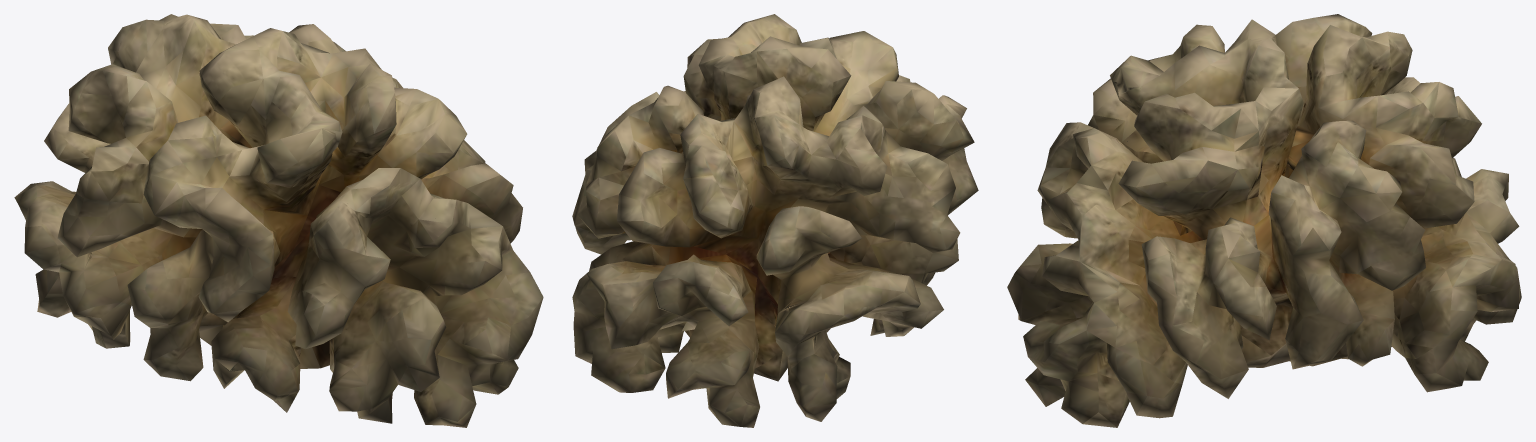
The model's file is scan_coral_pocillopora.glb.
The picture shows the model from 3 angles, left to right: view 1: azimuth 30°, elevation 25°; view 2: azimuth 150°, elevation 25°; view 3: azimuth 270°, elevation 25°; orthographic projection. The views are drawn at different scales.
Visible parts, largest first — view 1: scan_coral_pocillopora; view 2: scan_coral_pocillopora; view 3: scan_coral_pocillopora.
Boxes of the visible parts, box(x1,y1,x2,y2) form: scan_coral_pocillopora: box(14, 14, 543, 427); scan_coral_pocillopora: box(572, 14, 978, 427); scan_coral_pocillopora: box(1007, 14, 1521, 427).
Size of the model in its own units: 0.5415 by 0.4151 by 0.5935.
Materials: 1 (1 with a texture image).
